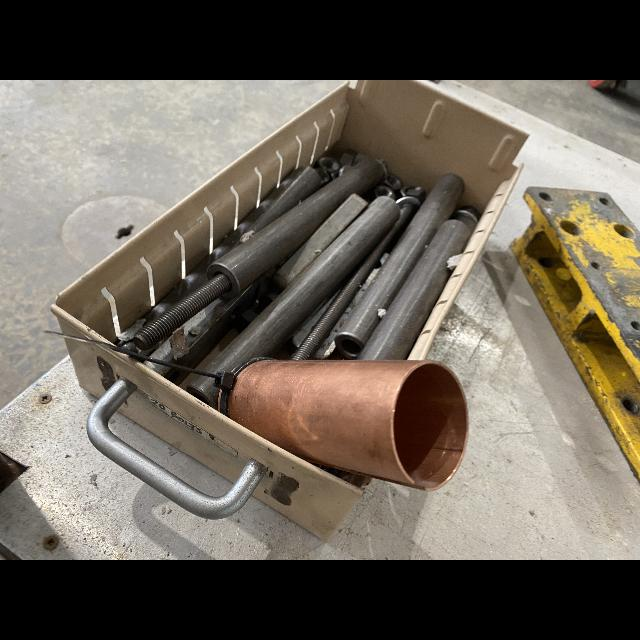Copper: (229, 360, 468, 491), (217, 389, 221, 413)
Ferrous Metal: (133, 159, 384, 350), (510, 188, 640, 481), (148, 149, 366, 323), (201, 198, 401, 374), (289, 172, 423, 361), (87, 380, 267, 519), (334, 173, 463, 360), (356, 221, 471, 362), (273, 194, 370, 289), (150, 284, 257, 368), (143, 361, 186, 388), (187, 375, 219, 410)
